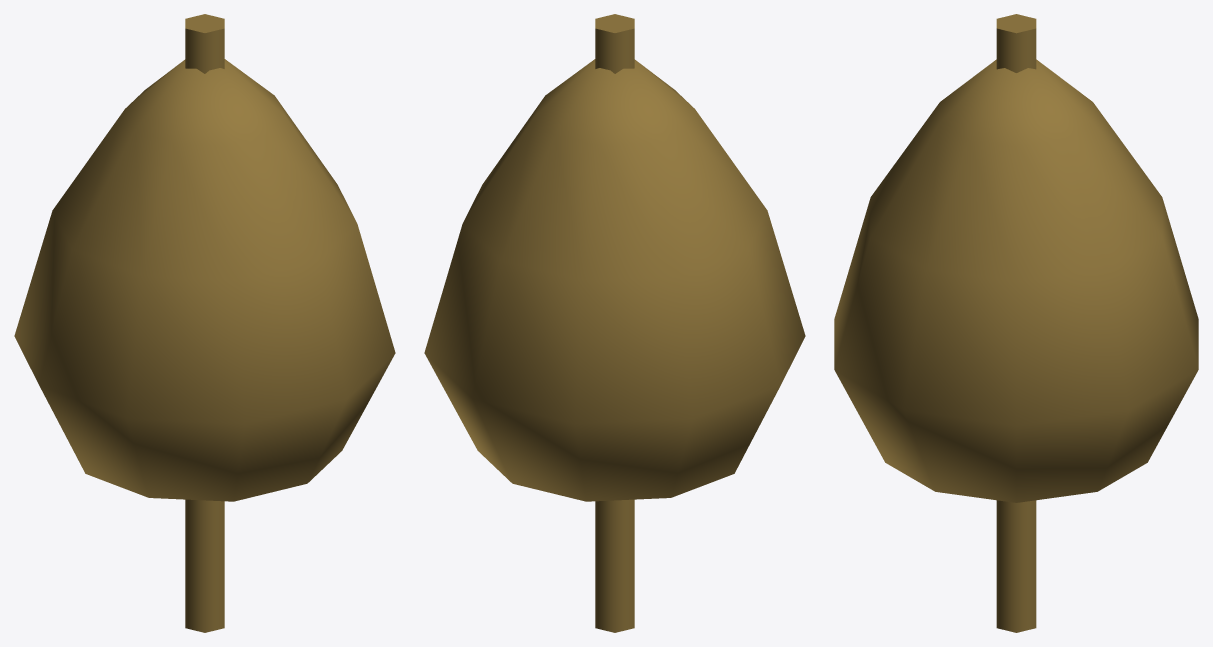
Rendered from phoenix_pinion.obj.
The picture shows the model from 3 angles, left to right: view 1: azimuth 30°, elevation 25°; view 2: azimuth 150°, elevation 25°; view 3: azimuth 270°, elevation 25°; orthographic projection.
Parts seen in each view (by area): view 1: phoenix_pinion; view 2: phoenix_pinion; view 3: phoenix_pinion.
Part boxes in pixels (left/top/right/bottom): phoenix_pinion: left=14, top=14, right=395, bottom=632; phoenix_pinion: left=424, top=14, right=805, bottom=632; phoenix_pinion: left=834, top=14, right=1198, bottom=632.
Bounding box in the file's own units: 0.84 × 1.45 × 0.7989.
